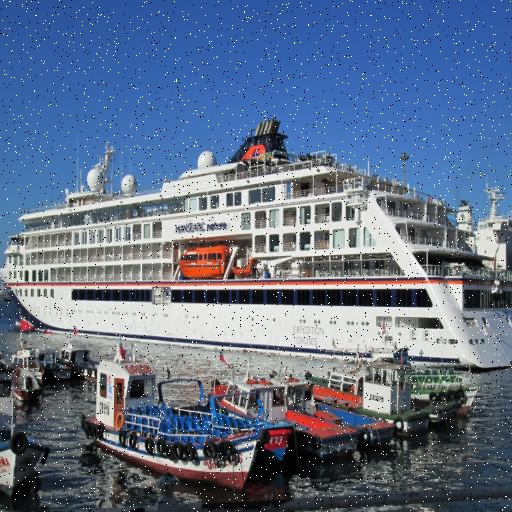cruises: (1, 127, 512, 371)
